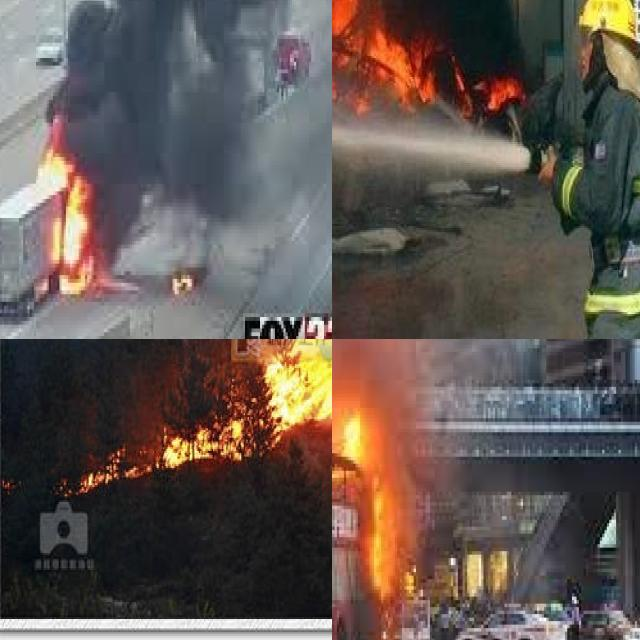fire: (63, 339, 332, 503), (332, 0, 527, 119), (36, 108, 143, 310), (332, 404, 411, 600), (160, 256, 200, 302)
smoke: (55, 0, 332, 260), (332, 339, 513, 436), (372, 0, 532, 100)
